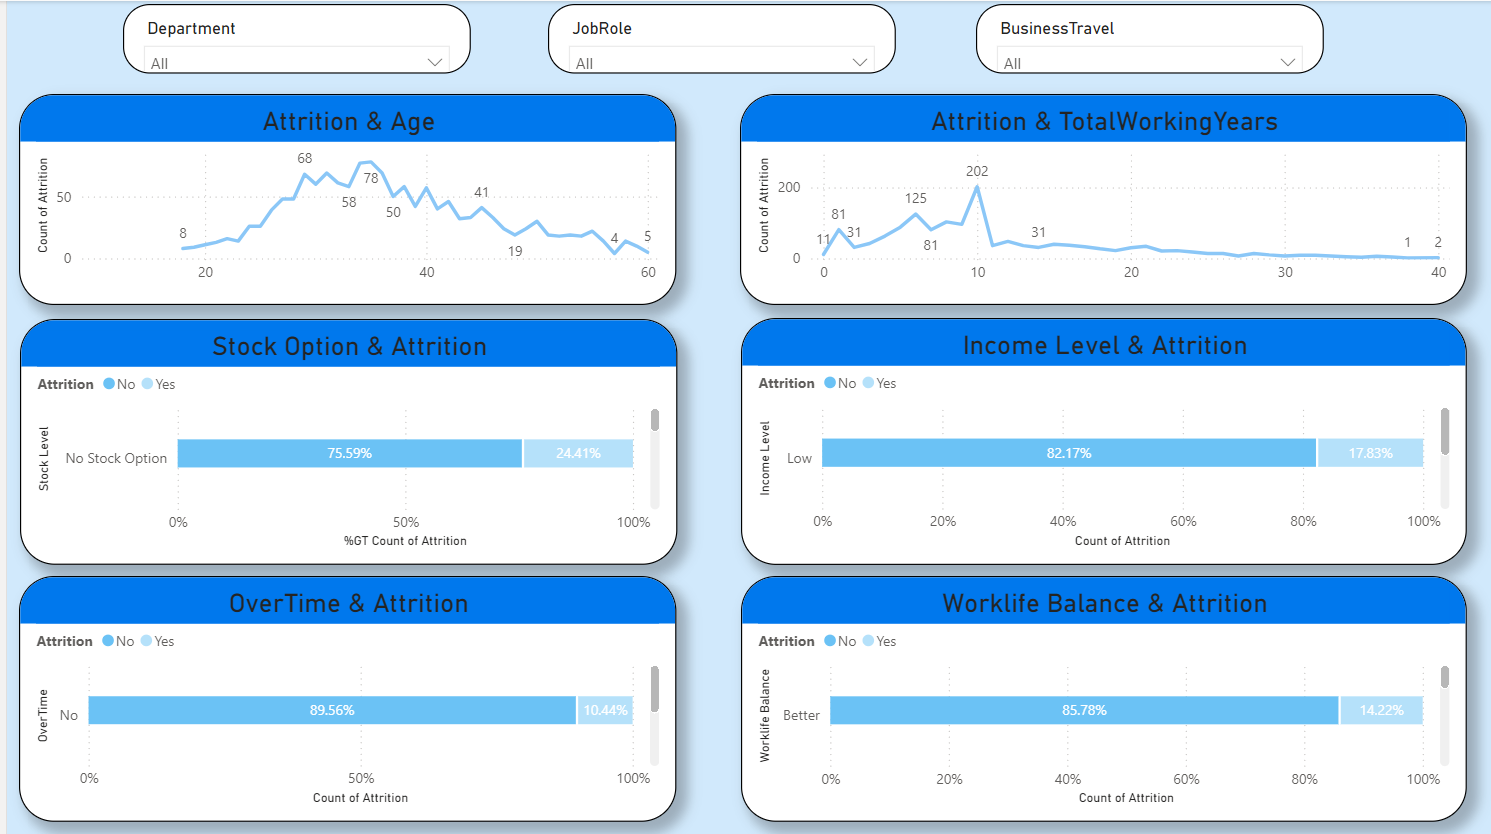

Layout of this report page (visuals, bound fields, positions):
{"tool":"powerbi","page":{"name":"Page 2","canvas":[1280,720],"ordinal":1},"visuals":[{"type":"lineChart","title":"Attrition & Age","fields":{"Category":["HR-Employee-Attrition.Age"],"Y":["CountNonNull(HR-Employee-Attrition.Attrition)"]},"box":[10,80,567.3,181.8],"z":0},{"type":"lineChart","title":"Attrition & TotalWorkingYears","fields":{"Category":["HR-Employee-Attrition.TotalWorkingYears"],"Y":["CountNonNull(HR-Employee-Attrition.Attrition)"]},"box":[631.8,80,627.3,181.8],"z":1000},{"type":"hundredPercentStackedBarChart","title":"Stock Option & Attrition","fields":{"Category":["HR-Employee-Attrition.Stock Level"],"Series":["HR-Employee-Attrition.Attrition"],"Y":["Divide(CountNonNull(HR-Employee-Attrition.Attrition), ScopedEval(CountNonNull(HR-Employee-Attrition.Attrition), []))"]},"box":[11.2,274.3,566.7,212.2],"z":2000},{"type":"hundredPercentStackedBarChart","title":"OverTime & Attrition","fields":{"Category":["HR-Employee-Attrition.OverTime"],"Series":["HR-Employee-Attrition.Attrition"],"Y":["CountNonNull(HR-Employee-Attrition.Attrition)"]},"box":[10,496.4,567.3,211.8],"z":3000},{"type":"hundredPercentStackedBarChart","title":"Income Level & Attrition","fields":{"Category":["HR-Employee-Attrition.Income Level"],"Series":["HR-Employee-Attrition.Attrition"],"Y":["CountNonNull(HR-Employee-Attrition.Attrition)"]},"box":[632.7,273.6,626.4,212.7],"z":4000},{"type":"hundredPercentStackedBarChart","title":"Worklife Balance & Attrition","fields":{"Category":["HR-Employee-Attrition.Worklife Balance "],"Series":["HR-Employee-Attrition.Attrition"],"Y":["CountNonNull(HR-Employee-Attrition.Attrition)"]},"box":[633,496,626,212],"z":5000},{"type":"slicer","fields":{"Values":["HR-Employee-Attrition.JobRole"]},"box":[467,3,300,60],"z":6000},{"type":"slicer","fields":{"Values":["HR-Employee-Attrition.Department"]},"box":[100,3,300,60],"z":7000},{"type":"slicer","fields":{"Values":["HR-Employee-Attrition.BusinessTravel"]},"box":[836,3,300,60],"z":8000}]}

Visuals, with their boxes in screenshot pixels (x1, y1, x2, y2), scaled from the page's 1280x720 canvas onto the 1491x834 screenshot:
"Attrition & Age" lineChart: pyautogui.locateOnScreen(12, 93, 672, 303)
"Attrition & TotalWorkingYears" lineChart: pyautogui.locateOnScreen(736, 93, 1467, 303)
"Stock Option & Attrition" hundredPercentStackedBarChart: pyautogui.locateOnScreen(13, 318, 673, 564)
"OverTime & Attrition" hundredPercentStackedBarChart: pyautogui.locateOnScreen(12, 575, 672, 820)
"Income Level & Attrition" hundredPercentStackedBarChart: pyautogui.locateOnScreen(737, 317, 1467, 563)
"Worklife Balance & Attrition" hundredPercentStackedBarChart: pyautogui.locateOnScreen(737, 575, 1467, 820)
slicer - HR-Employee-Attrition.JobRole: pyautogui.locateOnScreen(544, 3, 893, 73)
slicer - HR-Employee-Attrition.Department: pyautogui.locateOnScreen(116, 3, 466, 73)
slicer - HR-Employee-Attrition.BusinessTravel: pyautogui.locateOnScreen(974, 3, 1323, 73)
